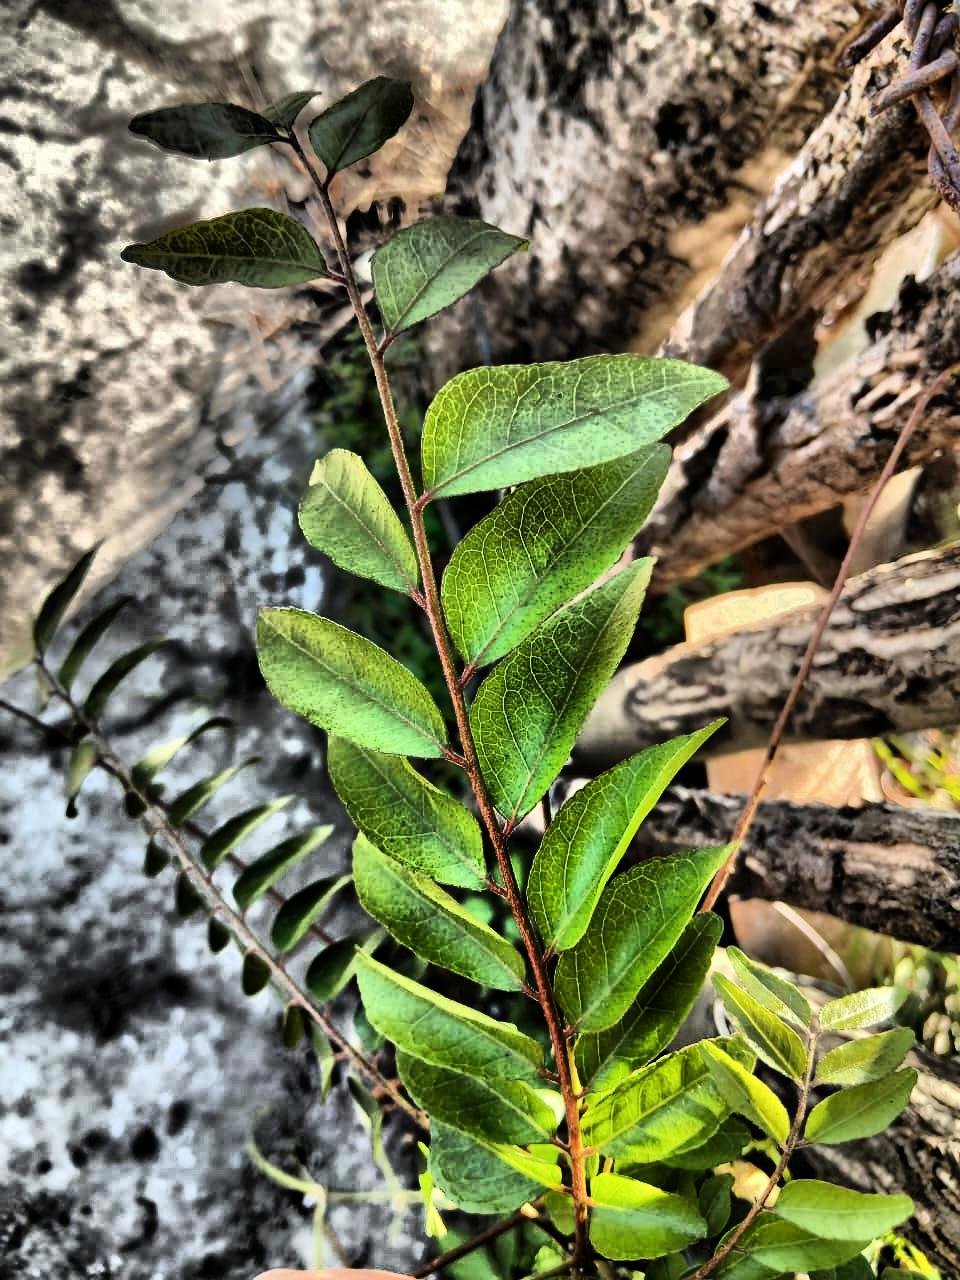daun kari: (117, 77, 915, 1279)
